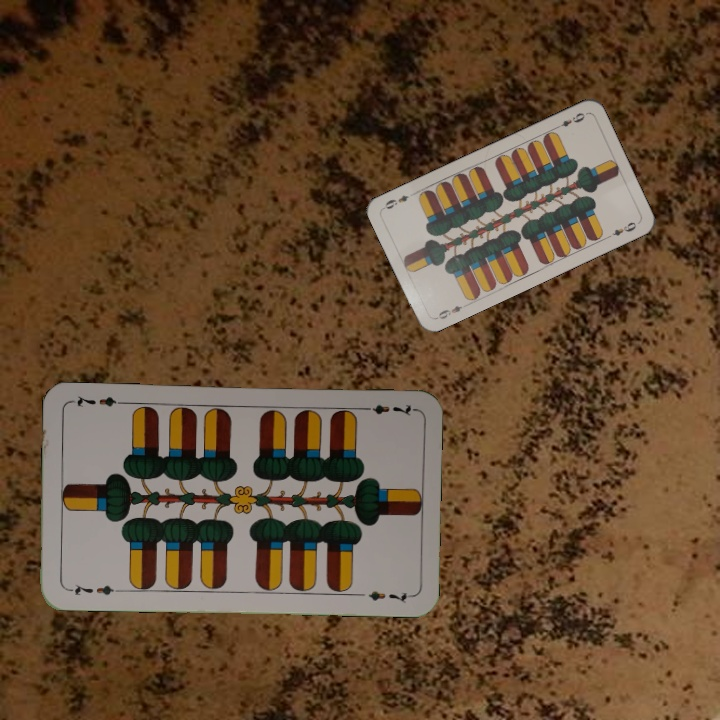E7: (357, 400, 416, 419), (64, 580, 123, 598)
E9: (431, 300, 470, 322), (551, 109, 588, 132)
